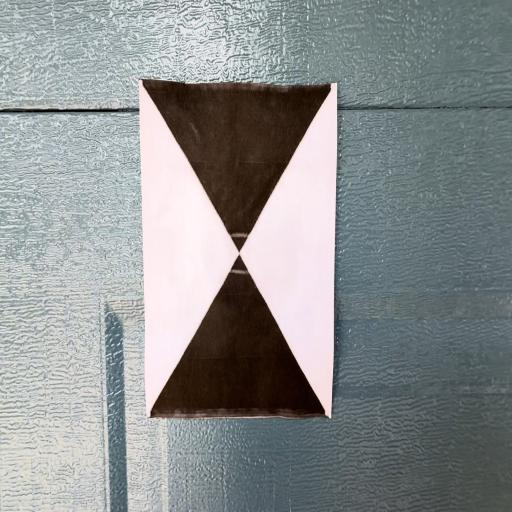target: (140, 79, 334, 418)
